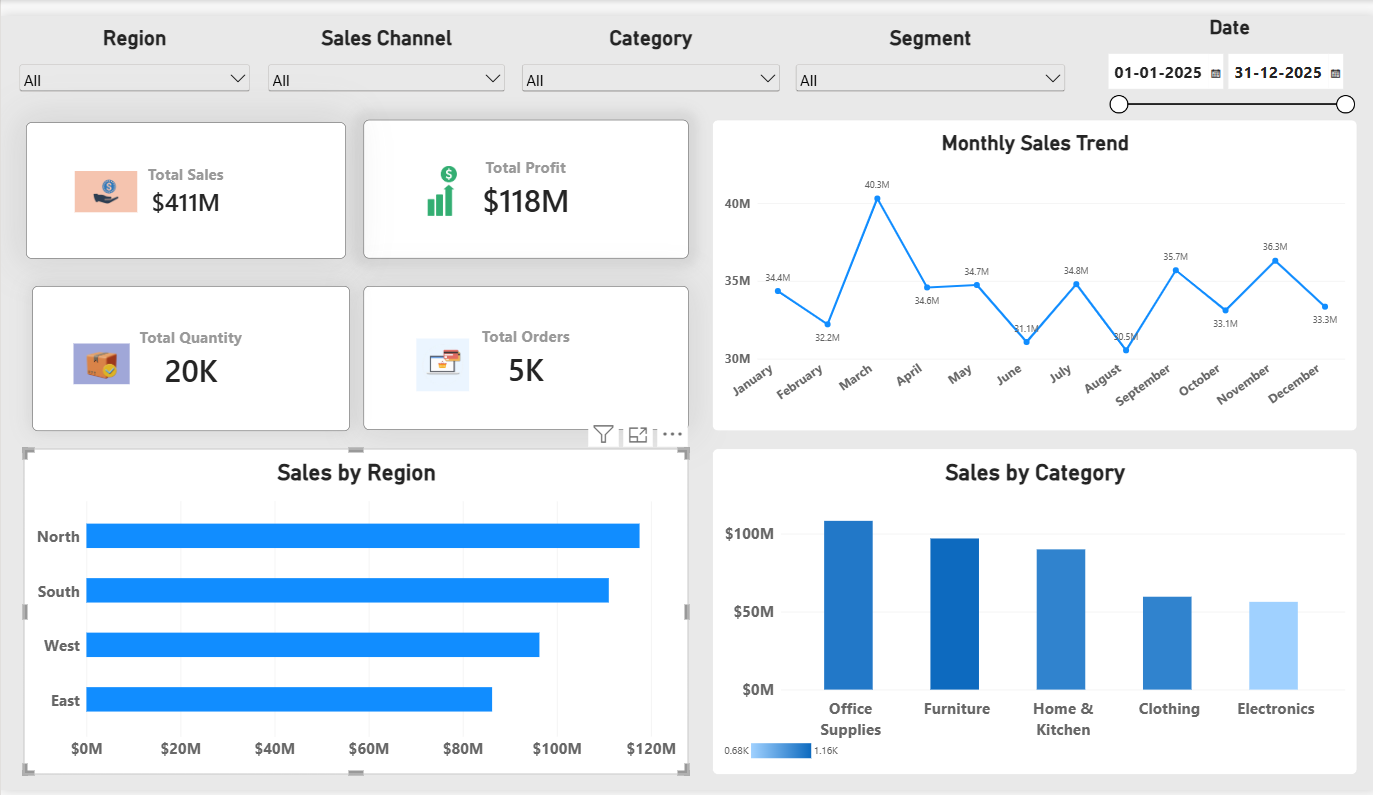

What the dashboard file says about the page in this screenshot:
{"tool":"powerbi","page":{"name":"Sales Overview","canvas":[1920,1080],"ordinal":0},"visuals":[{"type":"cardVisual","title":"Total Profit","fields":{"Data":["retail_sales_customer_analytics.Total_Profit"]},"box":[505.8,144.8,453.5,193.6],"z":0},{"type":"cardVisual","title":"Total Orders","fields":{"Data":["retail_sales_customer_analytics.Total_Orders"]},"box":[505.8,376.7,453.5,200.6],"z":1000},{"type":"cardVisual","title":"Total Sales","fields":{"Data":["retail_sales_customer_analytics.Total_sales"]},"box":[34.9,148.3,446.5,190.1],"z":2000},{"type":"cardVisual","title":"Total Quantity","fields":{"Data":["Sum(retail_sales_customer_analytics.Quantity)"]},"box":[43.6,376.7,443,202.3],"z":3000},{"type":"lineChart","title":"Monthly Sales Trend","fields":{"Category":["retail_sales_customer_analytics.Order_Date.Variation.Date Hierarchy.Year","retail_sales_customer_analytics.Order_Date.Variation.Date Hierarchy.Quarter","retail_sales_customer_analytics.Order_Date.Variation.Date Hierarchy.Month"],"Y":["Sum(retail_sales_customer_analytics.Sales)"]},"box":[992.4,144.8,900,434.3],"z":4000},{"type":"barChart","title":"Sales by Region","fields":{"Category":["retail_sales_customer_analytics.Region"],"Y":["retail_sales_customer_analytics.Total_sales"]},"box":[31.4,603.5,927.9,455.2],"z":5000},{"type":"columnChart","title":"Sales by Category","fields":{"Category":["retail_sales_customer_analytics.Category"],"Y":["retail_sales_customer_analytics.Total_sales"]},"box":[992.4,603.5,900,455.2],"z":6000},{"type":"slicer","title":"Date","fields":{"Values":["retail_sales_customer_analytics.Order_Date"]},"box":[1536.6,0,355.8,144.8],"z":7000},{"type":"slicer","title":"Region","fields":{"Values":["retail_sales_customer_analytics.Region"]},"box":[20.9,14,331.4,115.1],"z":8000},{"type":"slicer","title":"Category","fields":{"Values":["retail_sales_customer_analytics.Category"]},"box":[722.1,14,369.8,115.1],"z":9000},{"type":"slicer","title":"Sales Channel","fields":{"Values":["retail_sales_customer_analytics.Sales_Channel"]},"box":[368,14,340.1,116.9],"z":10000},{"type":"slicer","title":"Segment","fields":{"Values":["retail_sales_customer_analytics.Segment"]},"box":[1104.1,14,385.5,115.1],"z":11000},{"type":"image","box":[103.1,215.8,87.2,57.6],"z":12000},{"type":"image","box":[563.7,209.7,104.7,69.8],"z":13000},{"type":"image","box":[575.9,450.4,82,73.3],"z":14000},{"type":"image","box":[101.9,457.4,78.5,57.1],"z":15000}]}

Visuals, with their boxes in screenshot pixels (x1, y1, x2, y2), scaled from the page's 1920x1080 canvas onto the 1373x795 screenshot:
"Total Profit" cardVisual: (left=362, top=107, right=686, bottom=249)
"Total Orders" cardVisual: (left=362, top=277, right=686, bottom=425)
"Total Sales" cardVisual: (left=25, top=109, right=344, bottom=249)
"Total Quantity" cardVisual: (left=31, top=277, right=348, bottom=426)
"Monthly Sales Trend" lineChart: (left=710, top=107, right=1353, bottom=426)
"Sales by Region" barChart: (left=22, top=444, right=686, bottom=779)
"Sales by Category" columnChart: (left=710, top=444, right=1353, bottom=779)
"Date" slicer: (left=1099, top=0, right=1353, bottom=107)
"Region" slicer: (left=15, top=10, right=252, bottom=95)
"Category" slicer: (left=516, top=10, right=781, bottom=95)
"Sales Channel" slicer: (left=263, top=10, right=506, bottom=96)
"Segment" slicer: (left=790, top=10, right=1065, bottom=95)
image: (left=74, top=159, right=136, bottom=201)
image: (left=403, top=154, right=478, bottom=206)
image: (left=412, top=332, right=470, bottom=386)
image: (left=73, top=337, right=129, bottom=379)
